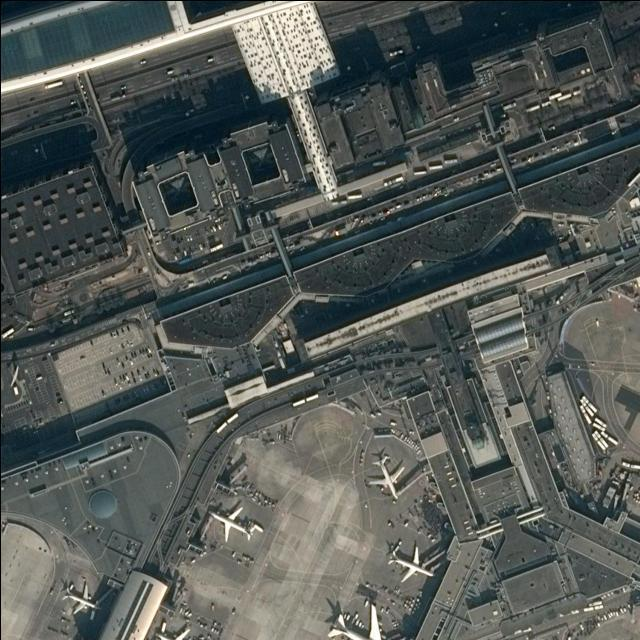Aircraft: (323, 603, 397, 640), (209, 503, 256, 545), (385, 542, 430, 578), (367, 453, 401, 495), (62, 584, 100, 615), (158, 618, 203, 640)
